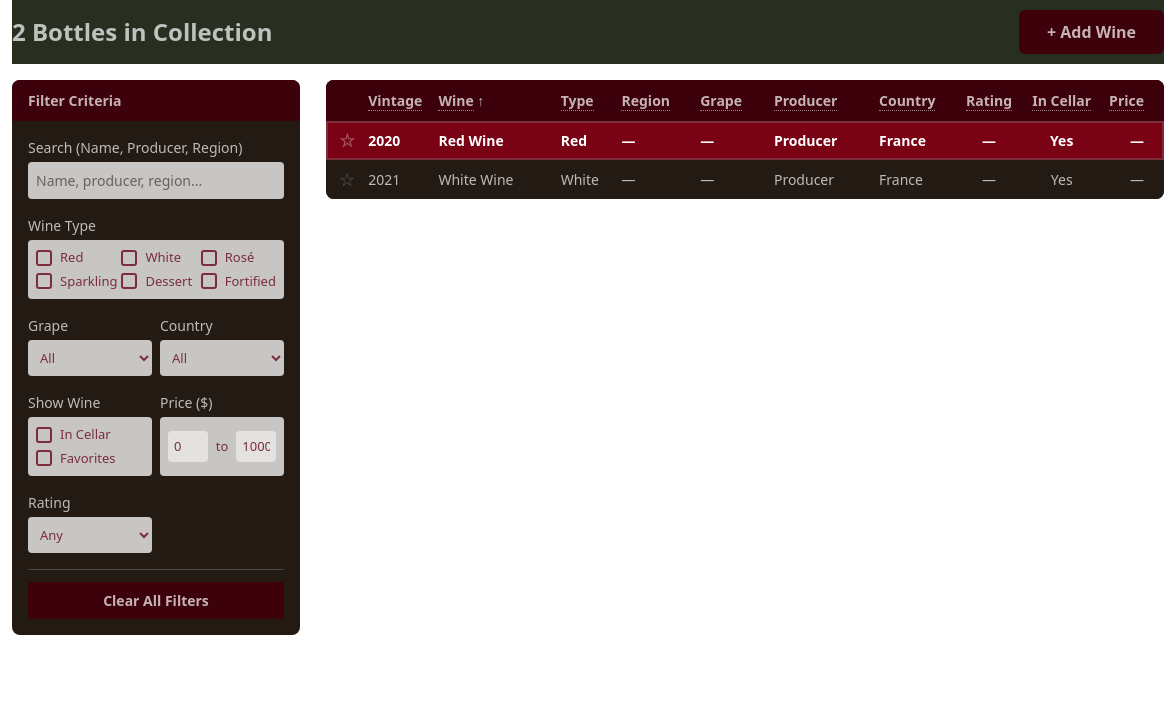
Home Page - Wine Cellar › Bottle Count Display › shows filtered count when filters are applied
The image size is (1176, 720).
expect the heading "2 Bottles in Collection" is shown: met, box top-left (12, 15), bottom-right (272, 48)
Note: Type in search to filter
Type "Red" into the field with placeholder "Name, producer, region...".
click(156, 180); type("Red")  # box top-left (28, 162), bottom-right (284, 199)
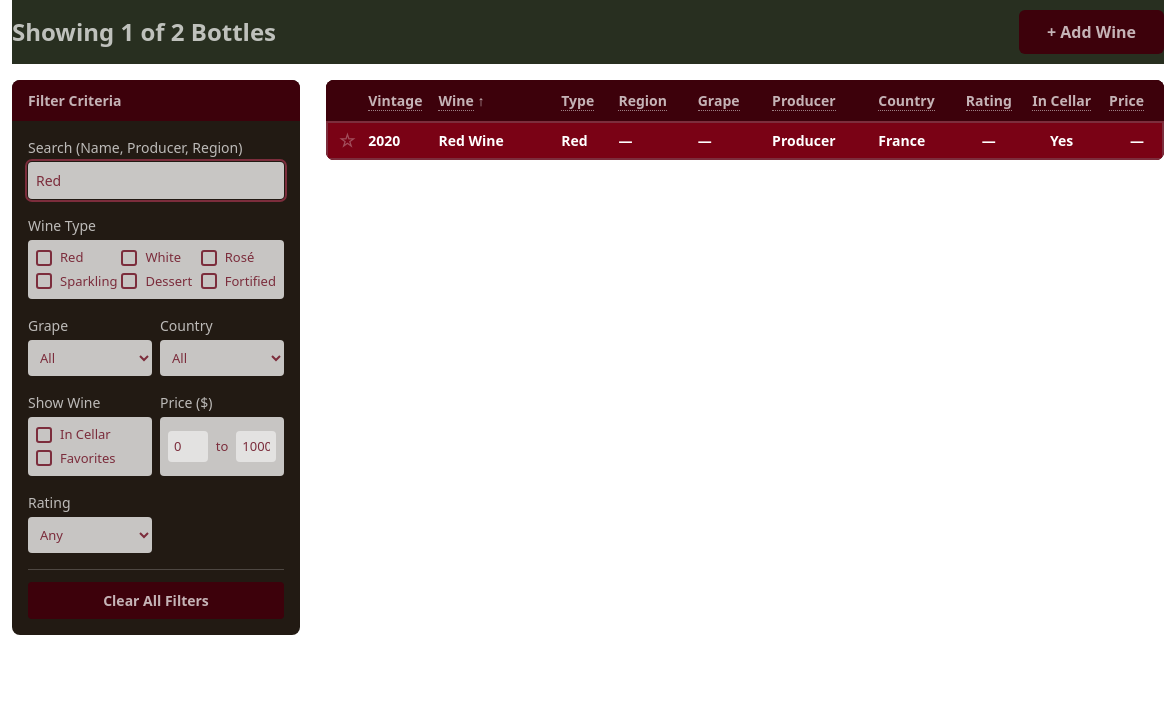
expect the heading "Showing 1 of 2 Bottles" is shown: met, box top-left (12, 15), bottom-right (276, 48)
